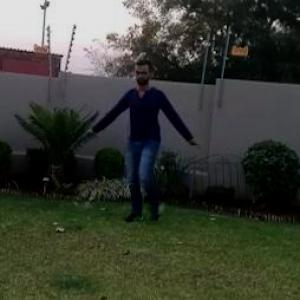land: (89, 66, 203, 217)
